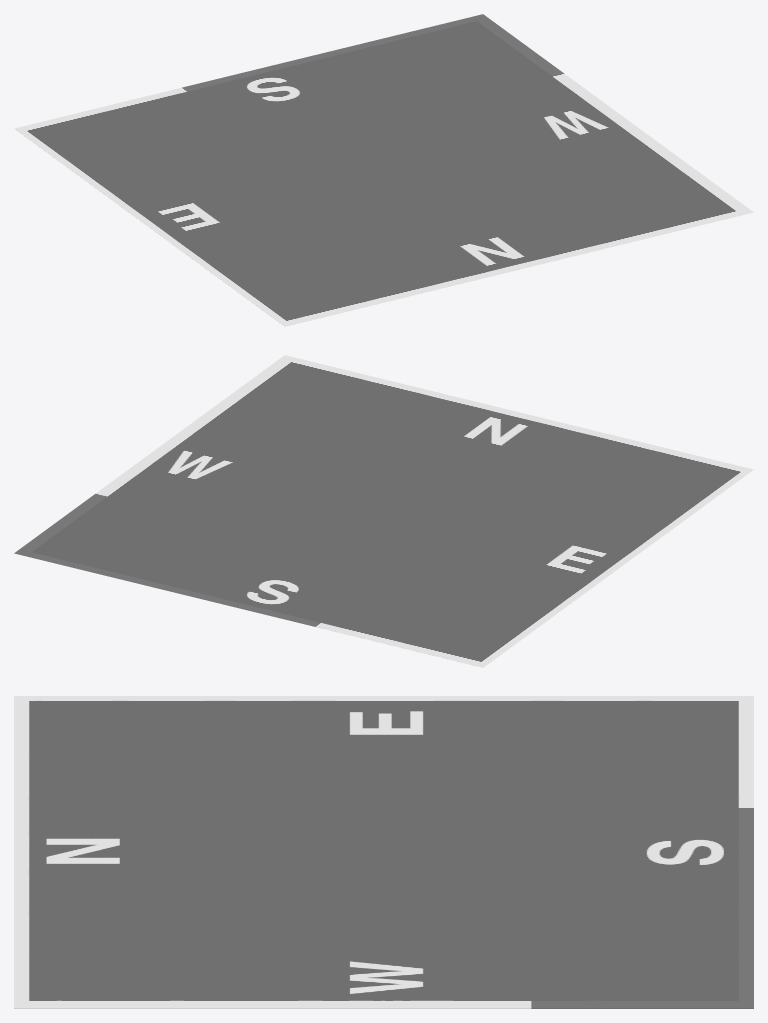
Rendered from Gizmo.fbx.
The picture shows the model from 3 angles, top to bottom: view 1: azimuth 30°, elevation 25°; view 2: azimuth 150°, elevation 25°; view 3: azimuth 270°, elevation 25°; orthographic projection. The views are drawn at different scales.
Parts seen in each view (by area): view 1: Cube; view 2: Cube; view 3: Cube.
Boxes of the visible parts, x1,y1,x2,y2 form: Cube: (14,14,753,326); Cube: (14,355,753,667); Cube: (14,696,753,1008).
Size of the model in its own units: 600 by 0.0944 by 600.
Materials: 1 (1 with a texture image).
